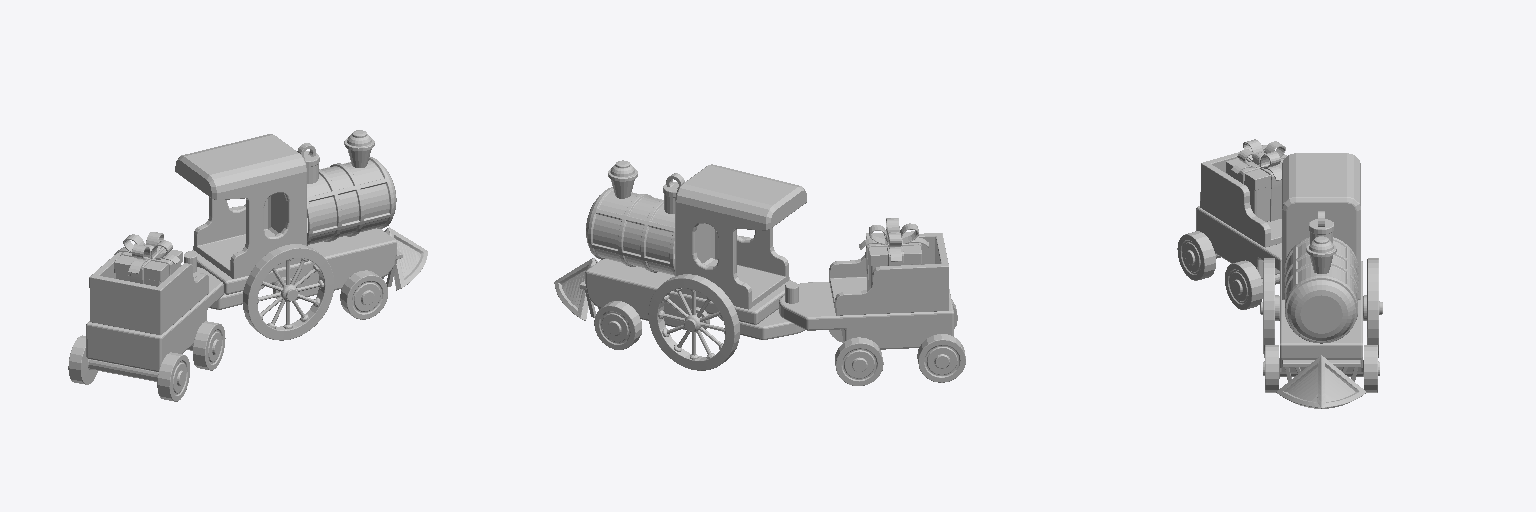
Rendered from train_pose.obj.
3 views of the same model, side by side, from view 1: azimuth 30°, elevation 25°; view 2: azimuth 150°, elevation 25°; view 3: azimuth 270°, elevation 25° (orthographic).
Visible parts, largest first — view 1: 3; view 2: 3; view 3: 3.
Part boxes in pixels (left/top/right/bottom): 3: left=68, top=130, right=427, bottom=401; 3: left=554, top=160, right=965, bottom=385; 3: left=1177, top=139, right=1382, bottom=408.
Size of the model in its own units: 5.98 by 2.5 by 2.75.